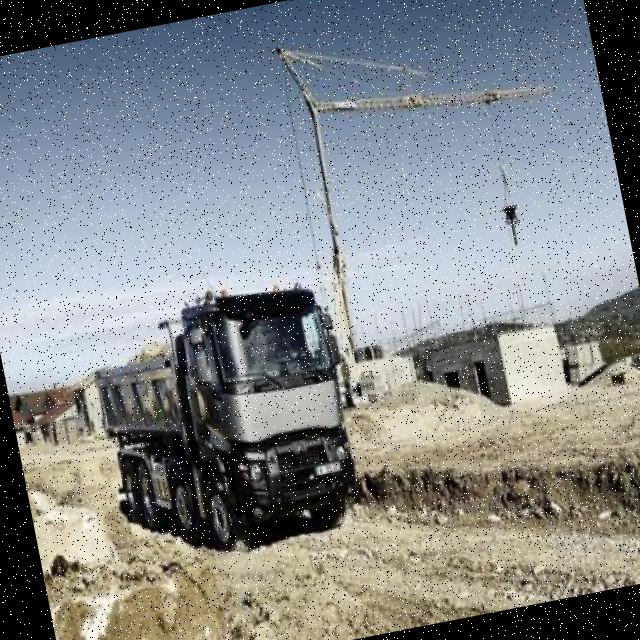Dump Truck: (73, 265, 368, 577)
